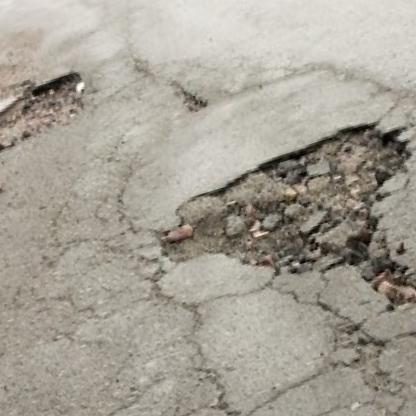pothole: (137, 104, 416, 316), (18, 65, 101, 140), (165, 72, 212, 118)
